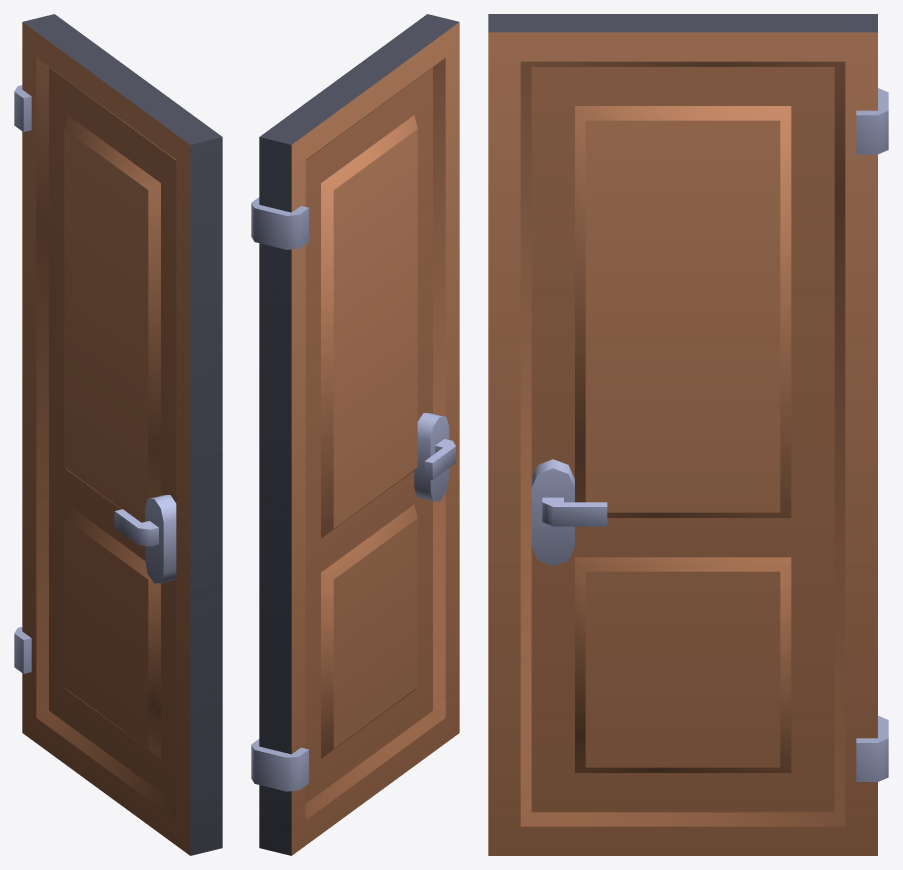
Rendered from door_0.glb.
The picture shows the model from 3 angles, left to right: view 1: azimuth 30°, elevation 25°; view 2: azimuth 150°, elevation 25°; view 3: azimuth 270°, elevation 25°; orthographic projection. The views are drawn at different scales.
Parts seen in each view (by area): view 1: door, handle; view 2: door, handle; view 3: door, handle.
Part boxes in pixels (left/top/right/bottom): door: left=14, top=14, right=222, bottom=855; handle: left=114, top=509, right=158, bottom=546; door: left=251, top=14, right=459, bottom=855; handle: left=424, top=439, right=455, bottom=479; door: left=488, top=14, right=888, bottom=855; handle: left=542, top=497, right=607, bottom=526.
Bounding box in the file's own units: 0.25 × 2.1 × 0.925.
Materials: 1 (1 with a texture image).
